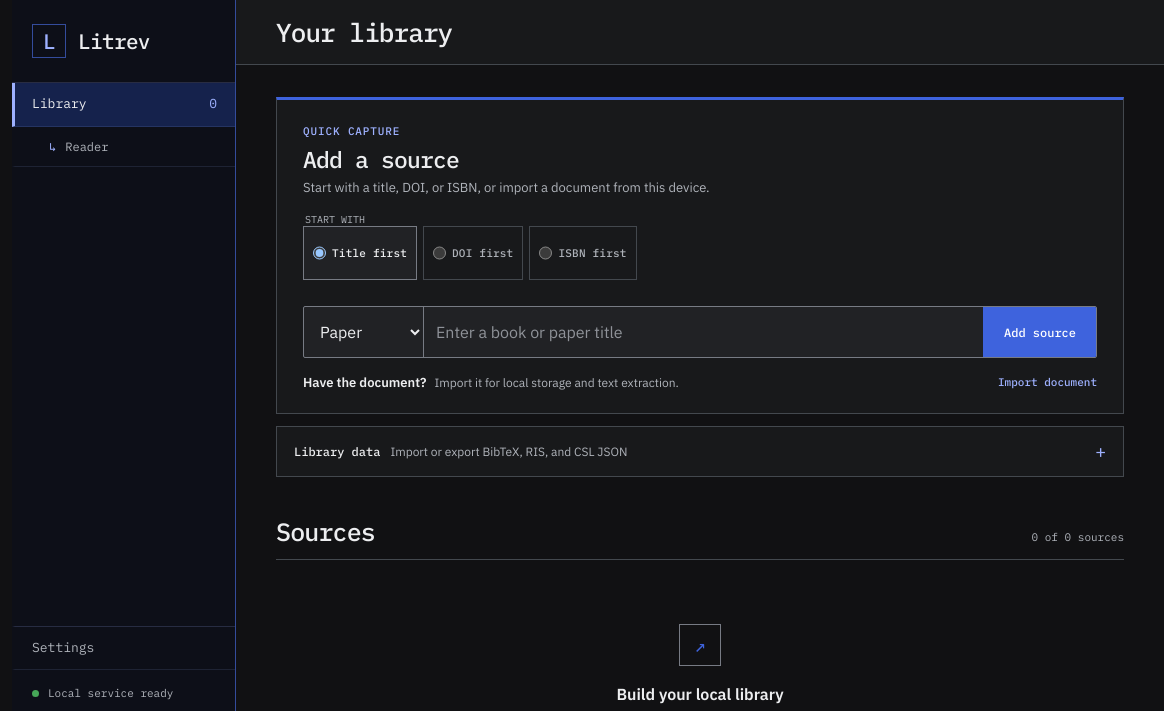
requires a source title before making a request
Check: the text "Local service ready" is shown, box [32,686,173,700]
Click the button "Add source". click: [1040, 332]
box: [983,307,1096,357]
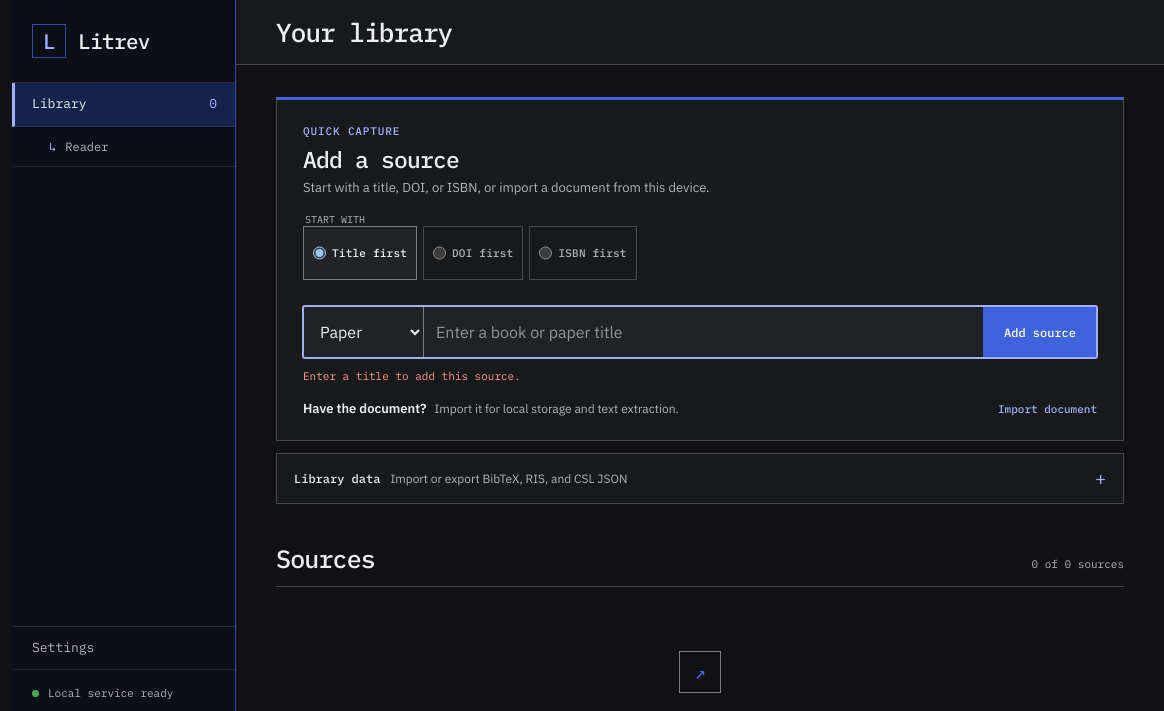
Check: the message "Enter a title to add this source." is shown, box [303,369,521,383]
